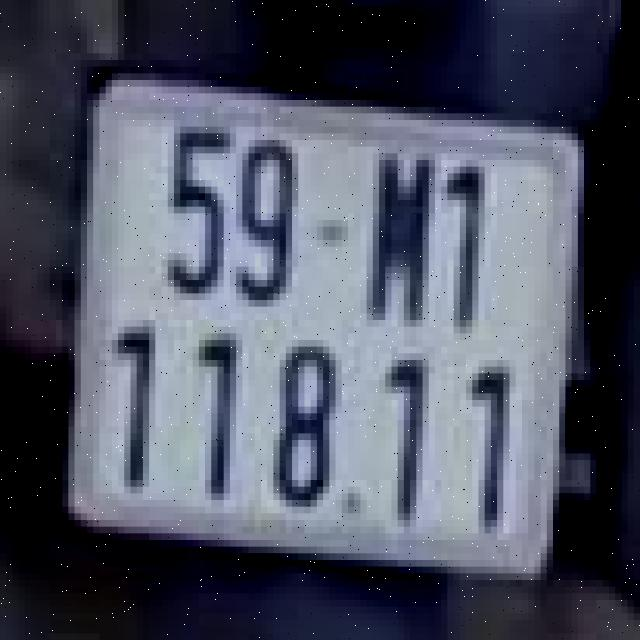1: (180, 323, 249, 517), (367, 347, 435, 540), (100, 304, 162, 504), (454, 353, 516, 547), (441, 144, 497, 344)
5: (162, 124, 236, 304)
8: (267, 327, 342, 513)
9: (233, 123, 301, 310)
M: (357, 143, 438, 330)
